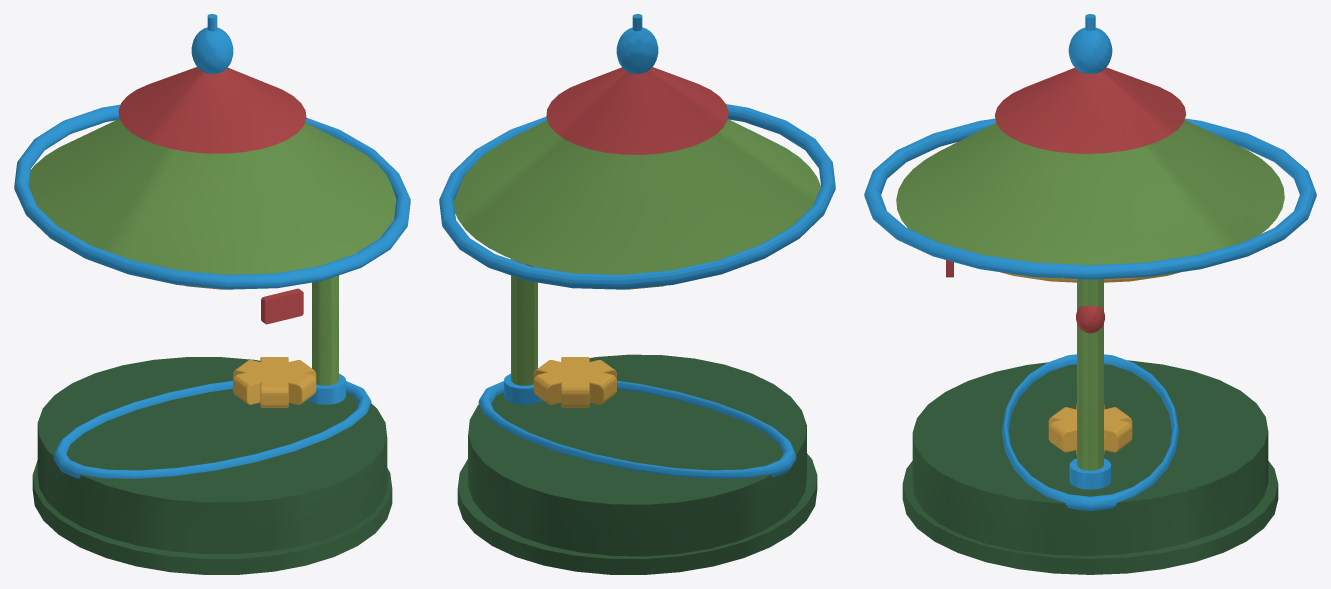
The model's file is 1090_古文观止_醉翁亭.glb.
3 renders of one model, left to right at view 1: azimuth 30°, elevation 25°; view 2: azimuth 150°, elevation 25°; view 3: azimuth 270°, elevation 25°, orthographic.
Parts seen in each view (by area): view 1: card_1090; view 2: card_1090; view 3: card_1090.
Part boxes in pixels (bbox=[...]): card_1090: bbox=[14, 14, 410, 574]; card_1090: bbox=[439, 14, 835, 574]; card_1090: bbox=[864, 14, 1316, 574].
Size of the model in its own units: 0.7133 by 1 by 0.8482.
